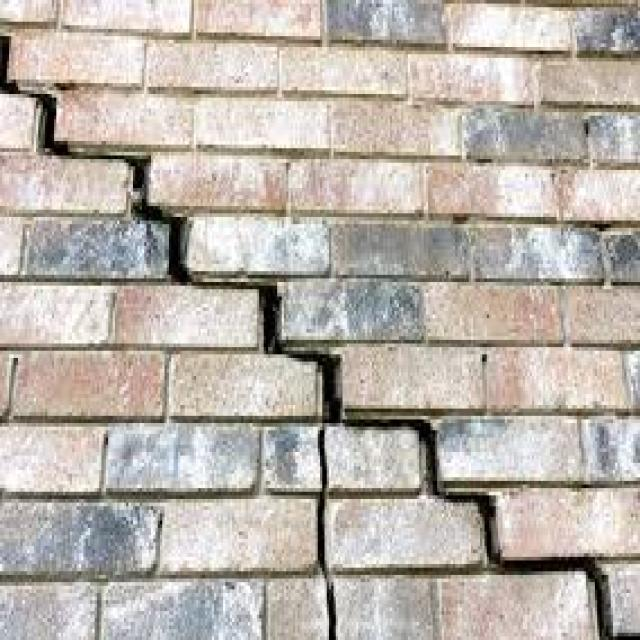Crack: (0, 29, 638, 636)
